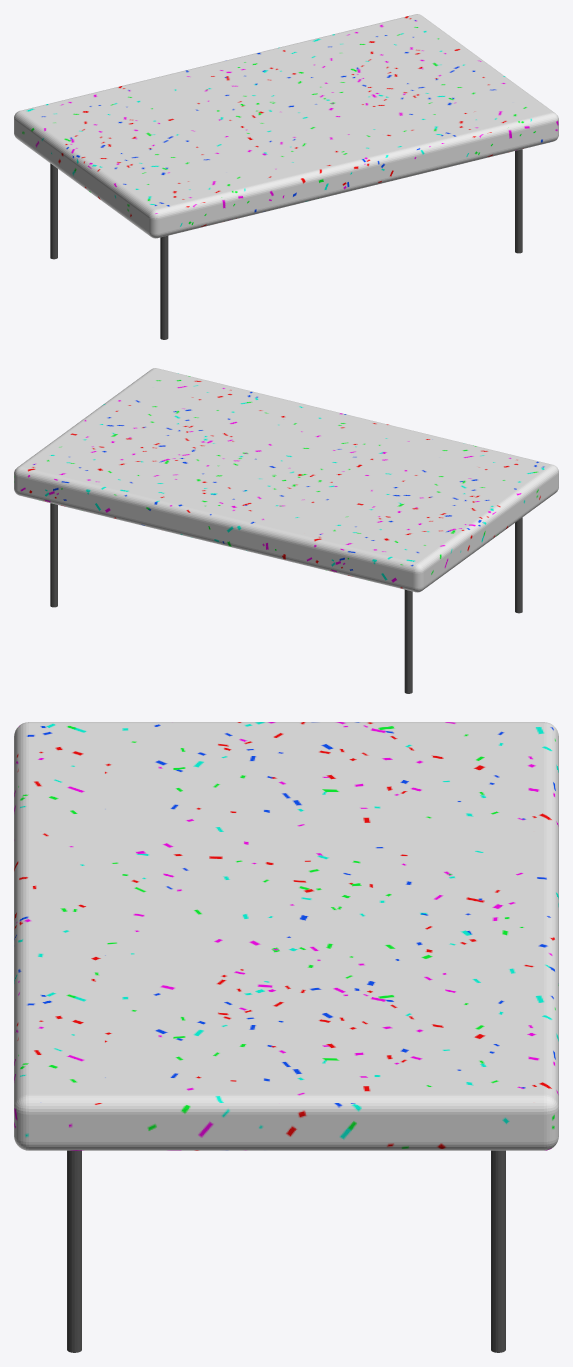
File: Party_Table.glb
3 views of the same model, one above another, from view 1: azimuth 30°, elevation 25°; view 2: azimuth 150°, elevation 25°; view 3: azimuth 270°, elevation 25° (orthographic). The views are drawn at different scales.
Visible parts, largest first — view 1: Table, Cylinder.002, Cylinder.003, Cylinder.001; view 2: Table, Cylinder.001, Cylinder.004, Cylinder.002; view 3: Table, Cylinder.003, Cylinder.004.
Boxes of the visible parts, <box> form: Table: <box>14,14,558,238</box>; Cylinder.002: <box>160,235,168,339</box>; Cylinder.003: <box>515,149,522,253</box>; Cylinder.001: <box>50,163,57,259</box>; Table: <box>14,368,558,592</box>; Cylinder.001: <box>404,589,412,693</box>; Cylinder.004: <box>50,503,57,607</box>; Cylinder.002: <box>515,517,522,613</box>; Table: <box>14,722,558,1150</box>; Cylinder.003: <box>67,1150,81,1352</box>; Cylinder.004: <box>491,1150,505,1352</box>.
Size of the model in its own units: 3 by 1 by 1.8.
2 materials, 1 textured.
